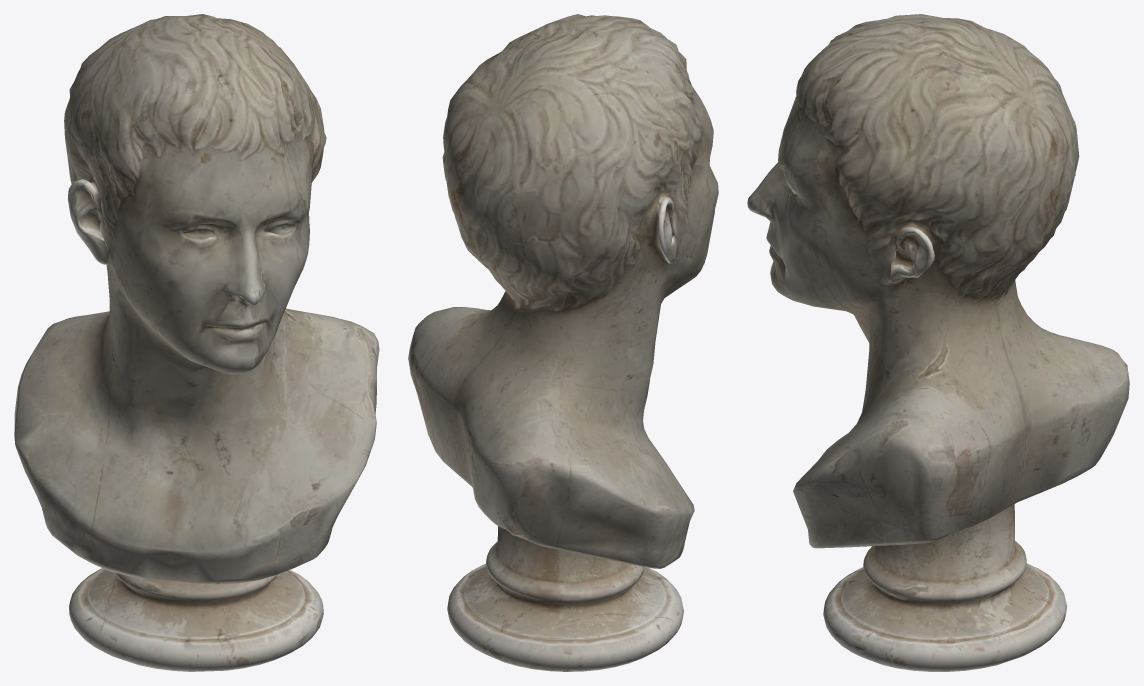
Rendered from marble_bust_01.glb.
The picture shows the model from 3 angles, left to right: view 1: azimuth 30°, elevation 25°; view 2: azimuth 150°, elevation 25°; view 3: azimuth 270°, elevation 25°; orthographic projection. The views are drawn at different scales.
Visible parts, largest first — view 1: marble_bust_01; view 2: marble_bust_01; view 3: marble_bust_01.
Part boxes in pixels (x1,y1,x2,y2): marble_bust_01: (14, 14, 379, 671); marble_bust_01: (408, 14, 718, 671); marble_bust_01: (747, 14, 1129, 671).
Size of the model in its own units: 0.2717 by 0.5148 by 0.2997.
1 material, 1 textured.
